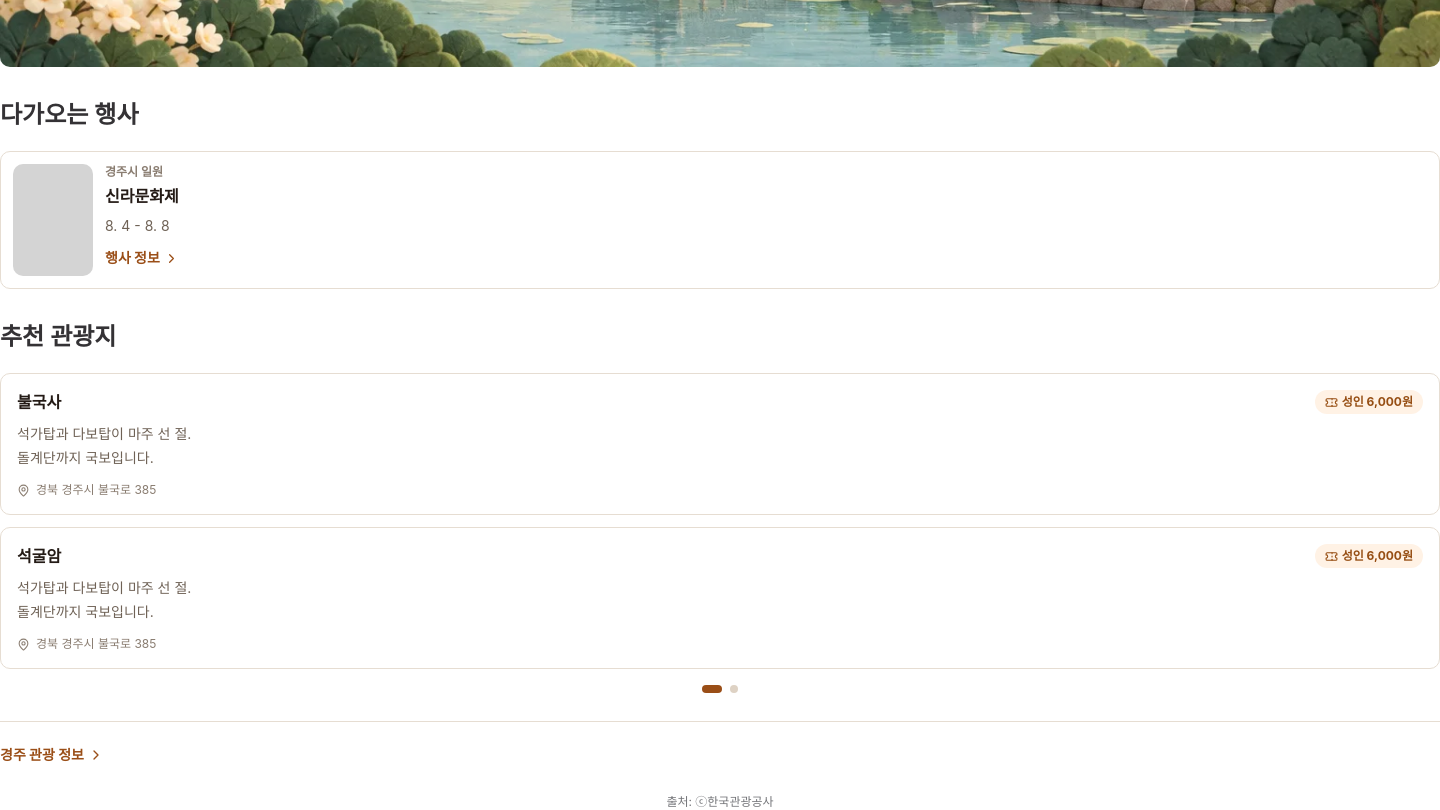
Scenario: HomeTab › pages the recommended places two at a time
(page scrolled)
Expected: the heading "석굴암" is shown, [17,546,61,566]
Expected: the text "첨성대" is not shown
Click the button named "추천 관광지 2페이지".
click(734, 689)  # box [730,685,738,693]
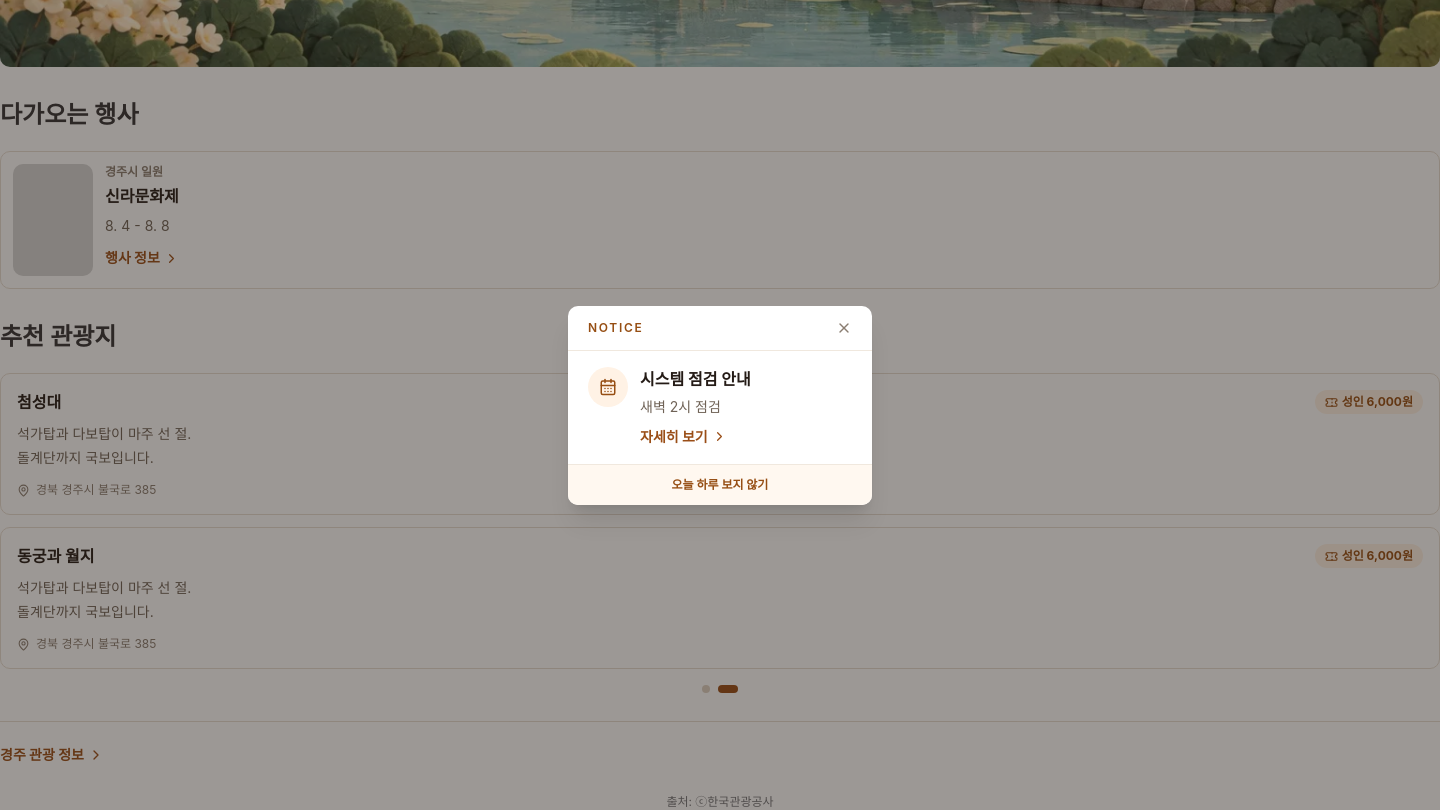
Expected: the heading "첨성대" is shown, [17,392,61,412]
Expected: the heading "불국사" is gone
